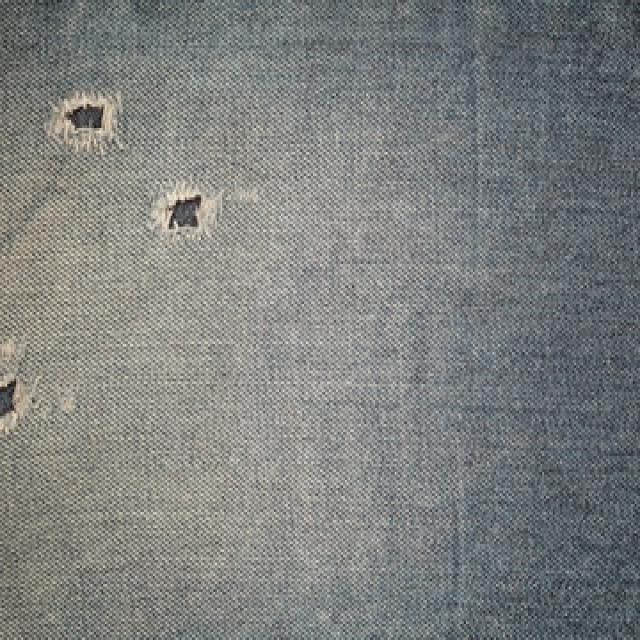Hole: (46, 91, 121, 154), (150, 180, 223, 240), (0, 337, 37, 434)
